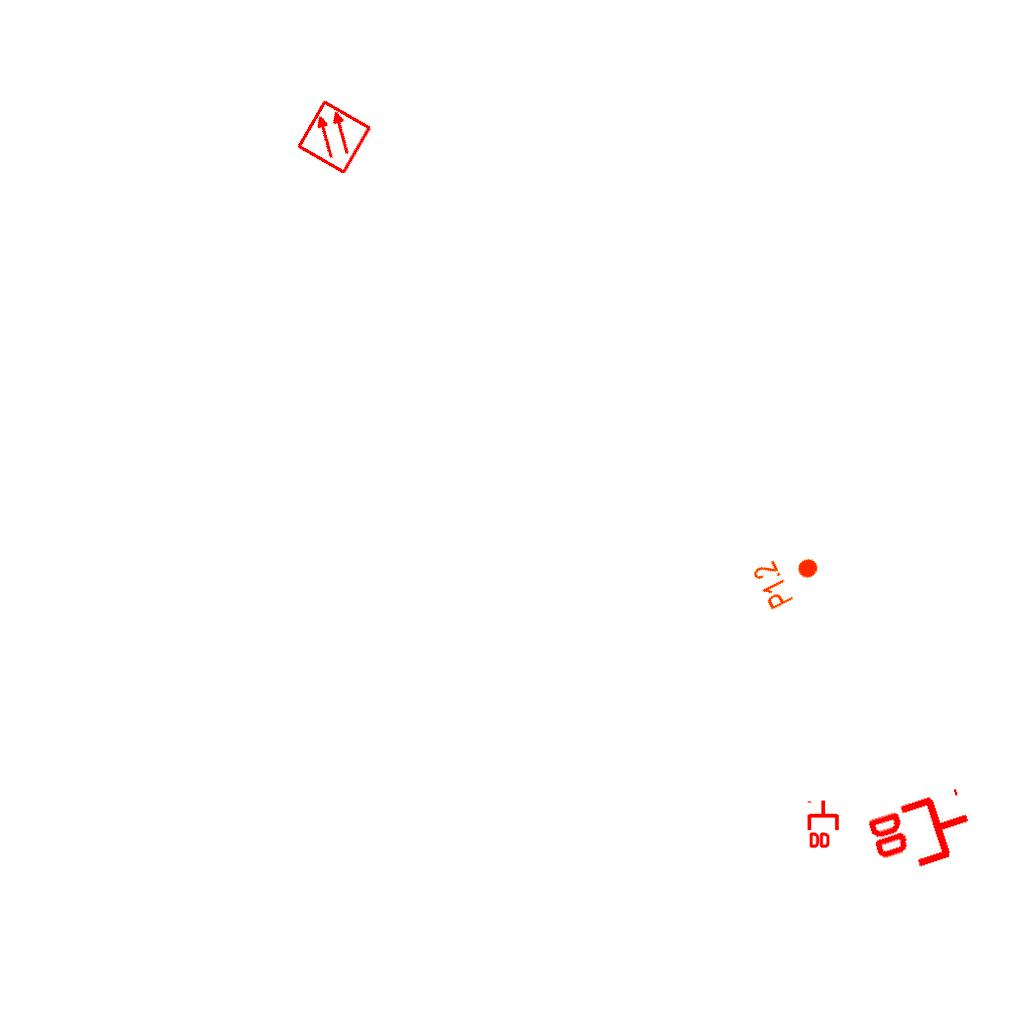Datenanschluss_zweifach: (861, 785, 982, 884), (807, 799, 841, 850)
Downlight_LED_Einbauleuchten_Flur: (750, 541, 828, 613)
RMO_Rauchmelder_optischer: (295, 98, 373, 176)
